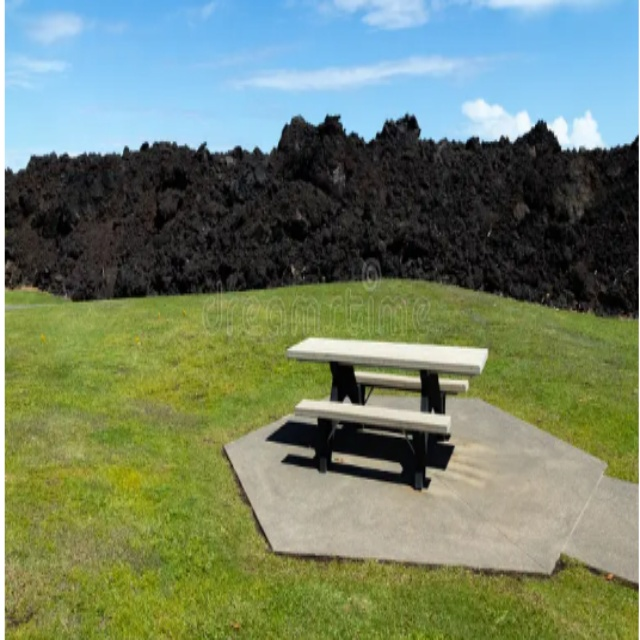obstacle: (285, 330, 490, 484)
